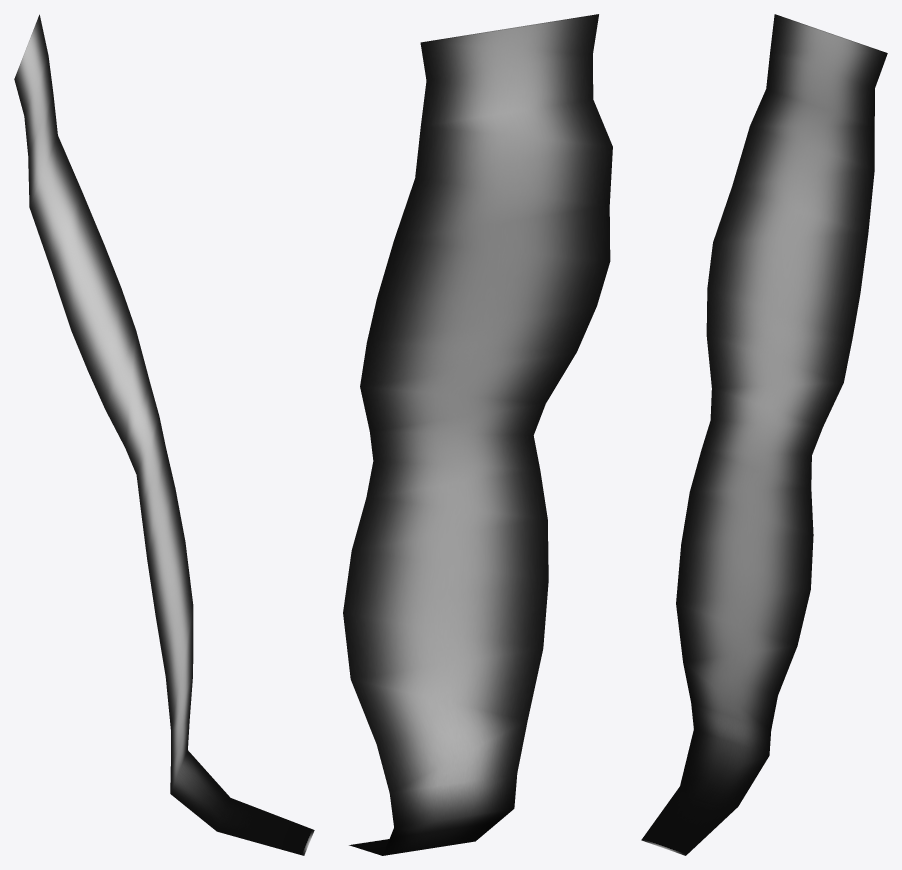
The model's file is texiao04.FBX.
3 renders of one model, left to right at view 1: azimuth 30°, elevation 25°; view 2: azimuth 150°, elevation 25°; view 3: azimuth 270°, elevation 25°, orthographic. The views are drawn at different scales.
Parts seen in each view (by area): view 1: texiao04; view 2: texiao04; view 3: texiao04.
Part boxes in pixels (box(x1,y1,x2,y2)): texiao04: box(14, 14, 314, 855); texiao04: box(343, 14, 612, 855); texiao04: box(641, 14, 887, 855).
Bounding box in the file's own units: 14.71 × 43.22 × 13.3.
